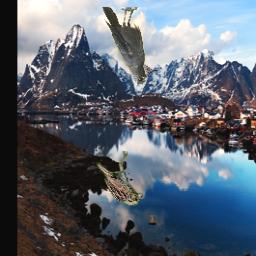Crow: (102, 8, 148, 85)
Sparrow: (97, 152, 143, 207), (141, 62, 159, 78)
